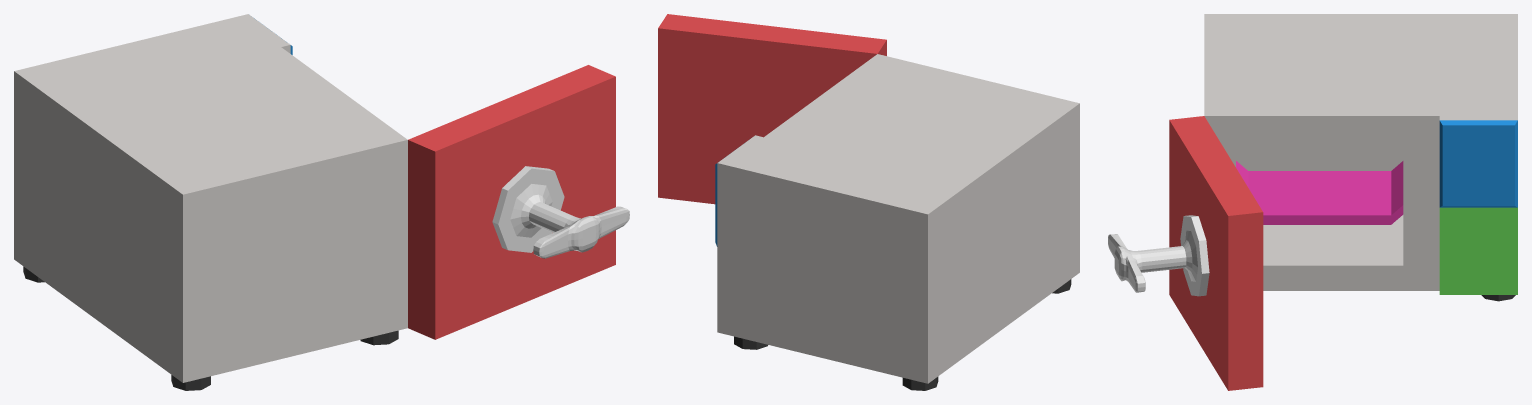
File: autoclaveopen.fbx
3 renders of one model, left to right at view 1: azimuth 30°, elevation 25°; view 2: azimuth 150°, elevation 25°; view 3: azimuth 270°, elevation 25°, orthographic. The views are drawn at different scales.
Parts seen in each view (by area): view 1: MainAutoclave, AutoClaveDoor; view 2: MainAutoclave, AutoClaveDoor; view 3: MainAutoclave, AutoClaveDoor.
Part boxes in pixels (bbox=[...]): MainAutoclave: bbox=[14, 14, 407, 390]; AutoClaveDoor: bbox=[408, 65, 629, 339]; MainAutoclave: bbox=[715, 54, 1079, 390]; AutoClaveDoor: bbox=[658, 14, 886, 204]; MainAutoclave: bbox=[1204, 14, 1517, 301]; AutoClaveDoor: bbox=[1108, 116, 1263, 390].
Size of the model in its own units: 396 by 170 by 340.
